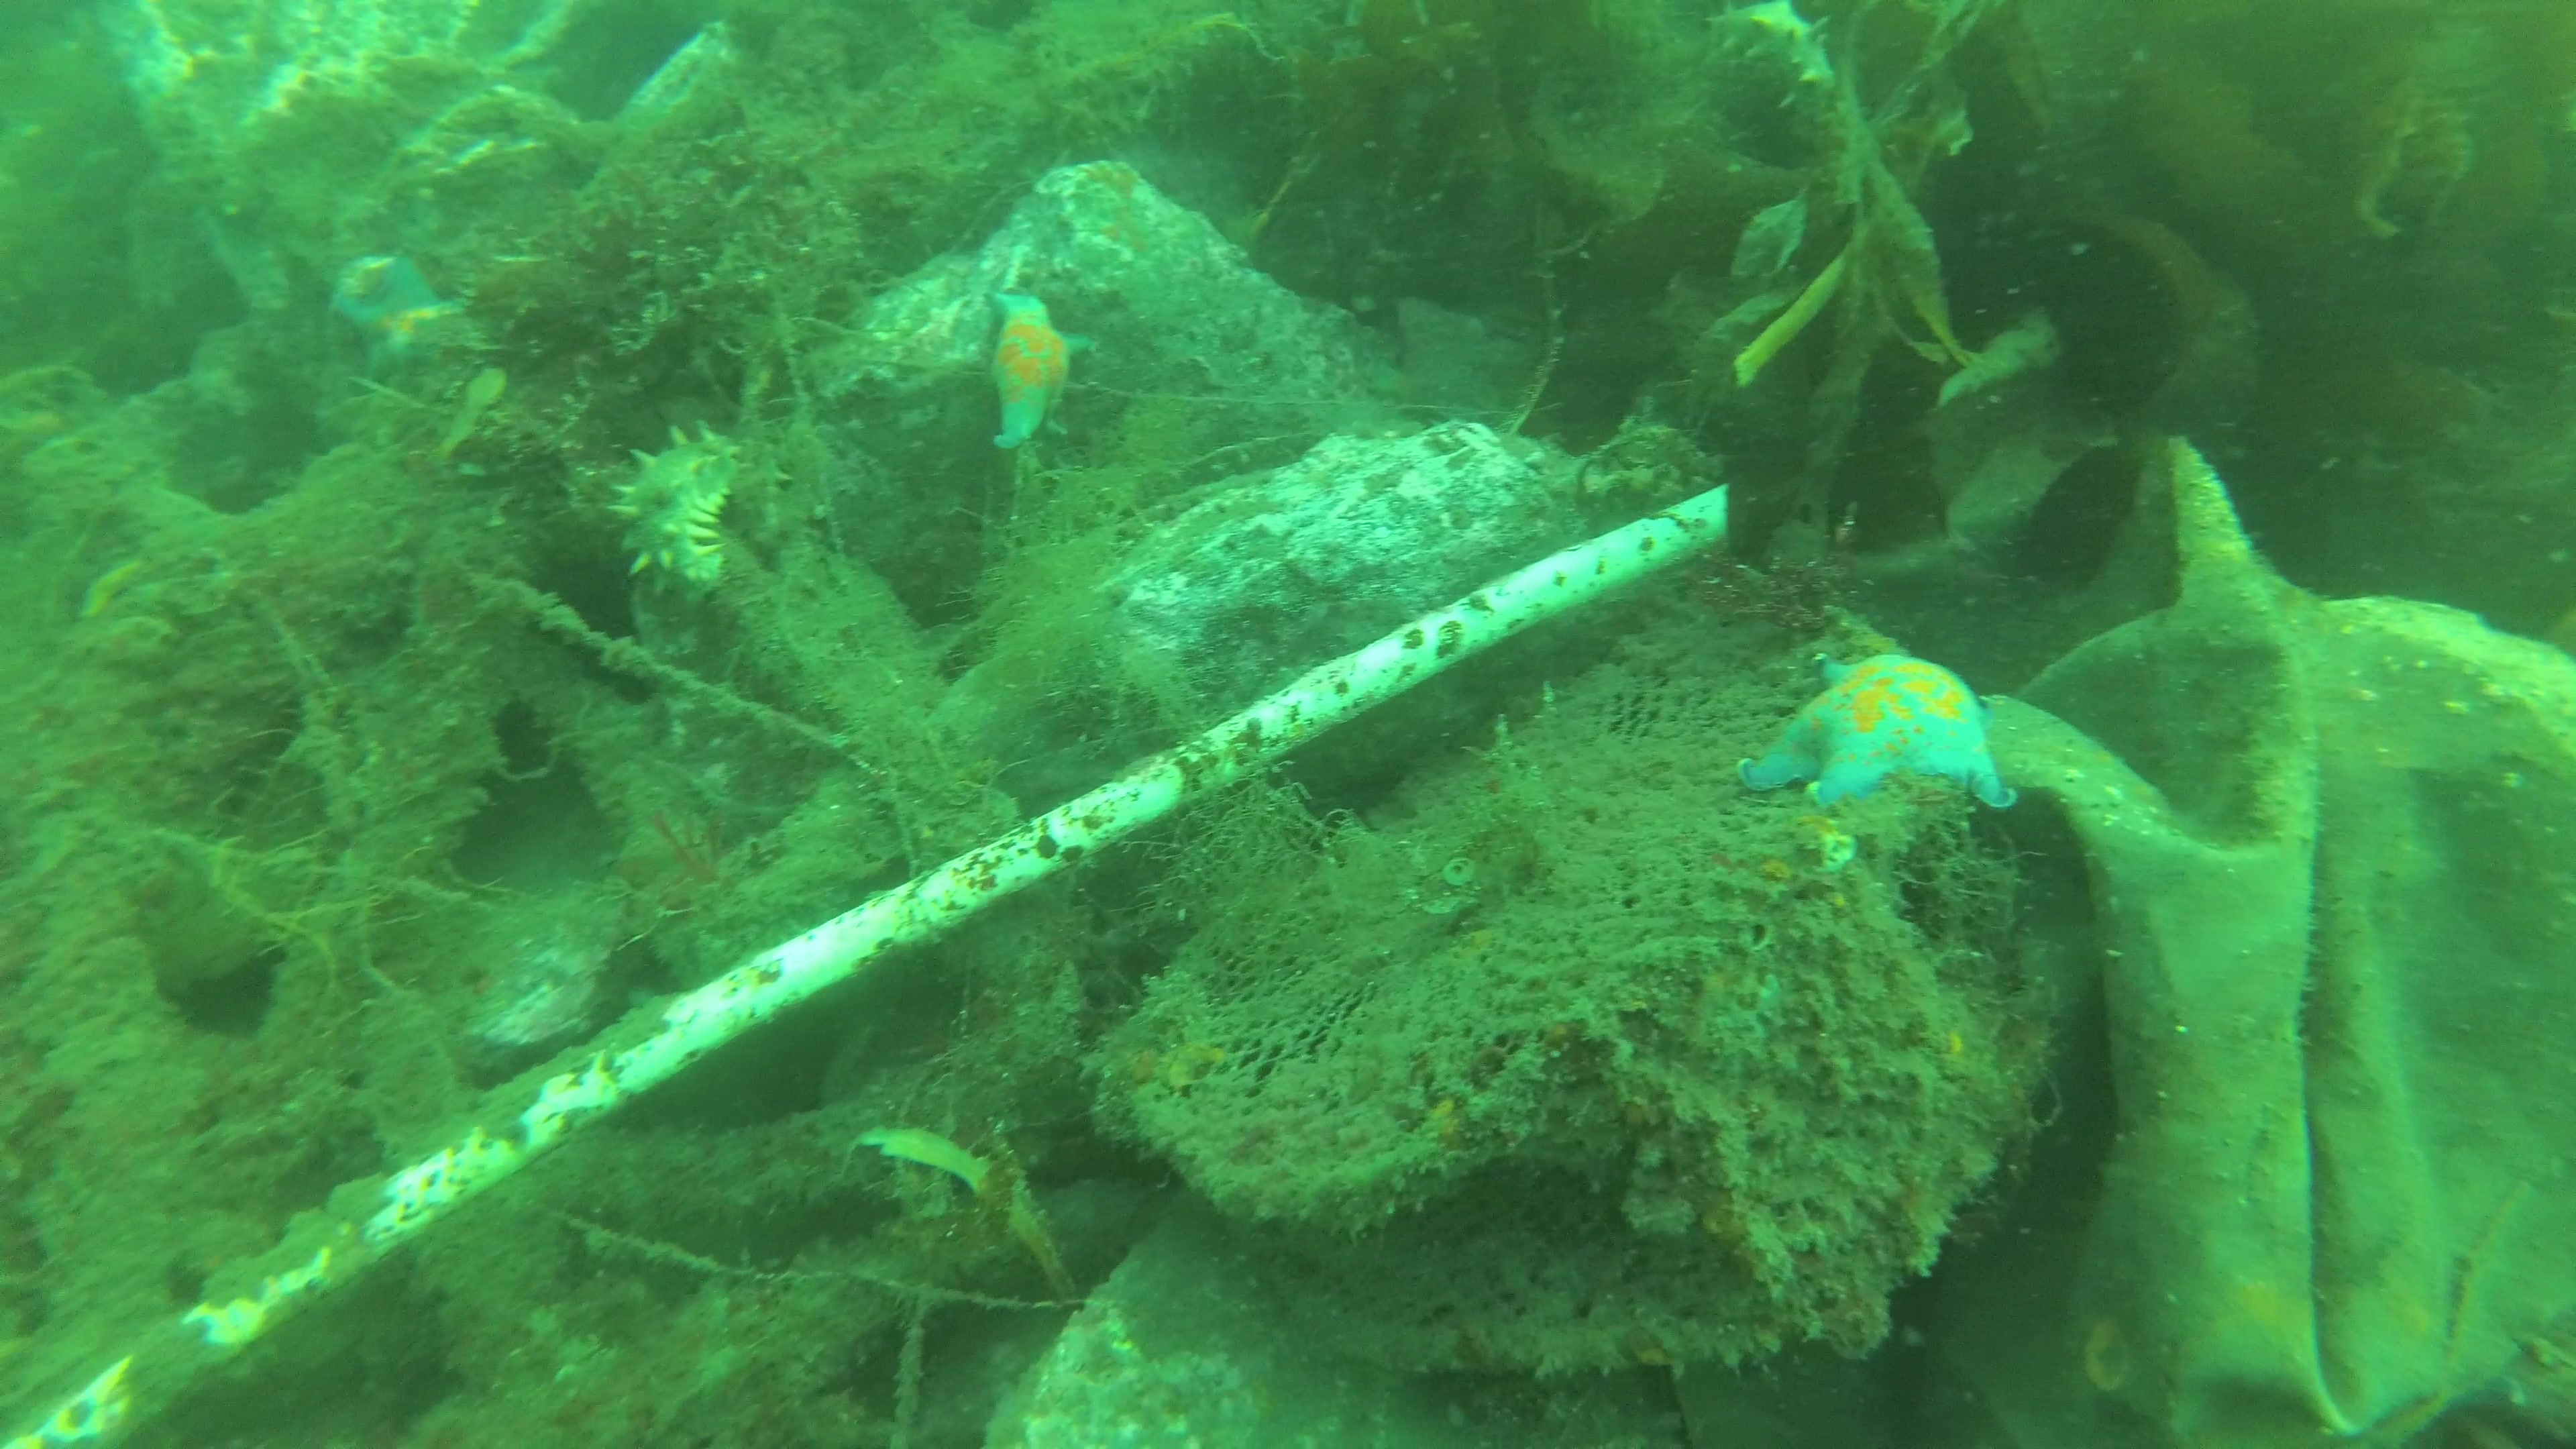holothurian: (609, 416, 738, 605)
starfish: (1739, 653, 2015, 810), (994, 299, 1100, 453), (327, 255, 435, 343), (370, 303, 472, 368)
